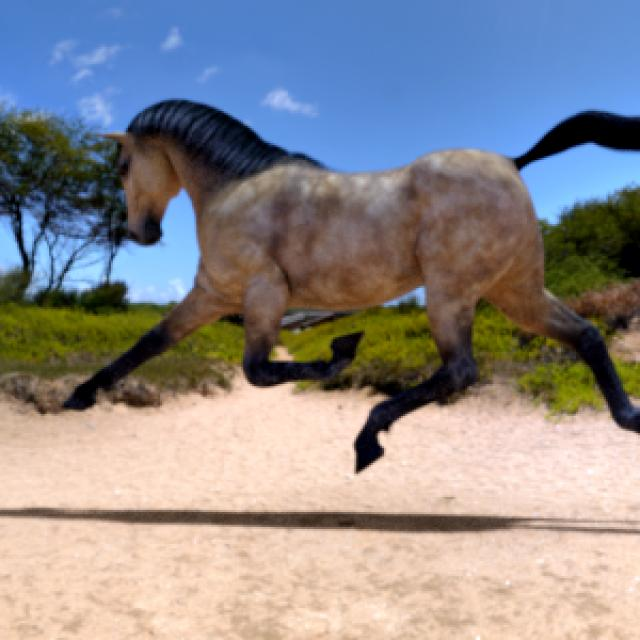horse: (65, 100, 640, 469)
